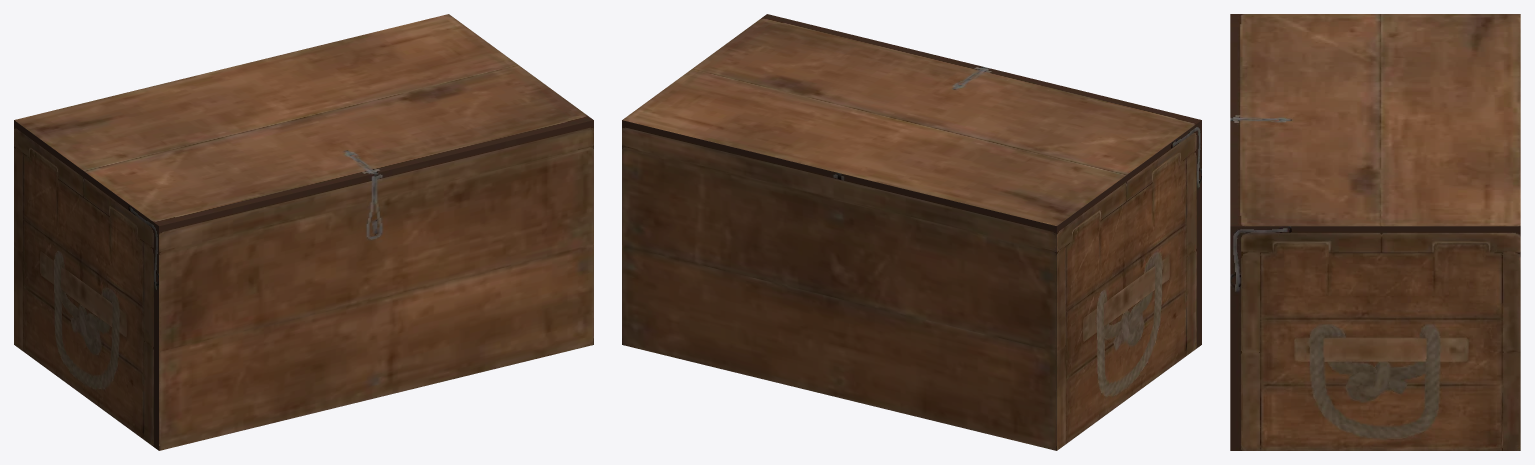
File: caixote_carga.glb
3 renders of one model, left to right at view 1: azimuth 30°, elevation 25°; view 2: azimuth 150°, elevation 25°; view 3: azimuth 270°, elevation 25°, orthographic.
Visible parts, largest first — view 1: caixote_carga; view 2: caixote_carga; view 3: caixote_carga.
Boxes of the visible parts, left/top/right/bottom form: caixote_carga: left=14, top=14, right=593, bottom=450; caixote_carga: left=622, top=14, right=1201, bottom=450; caixote_carga: left=1230, top=14, right=1520, bottom=450.
Size of the model in its own units: 0.7078 by 0.3496 by 0.409.
1 material, 1 textured.
